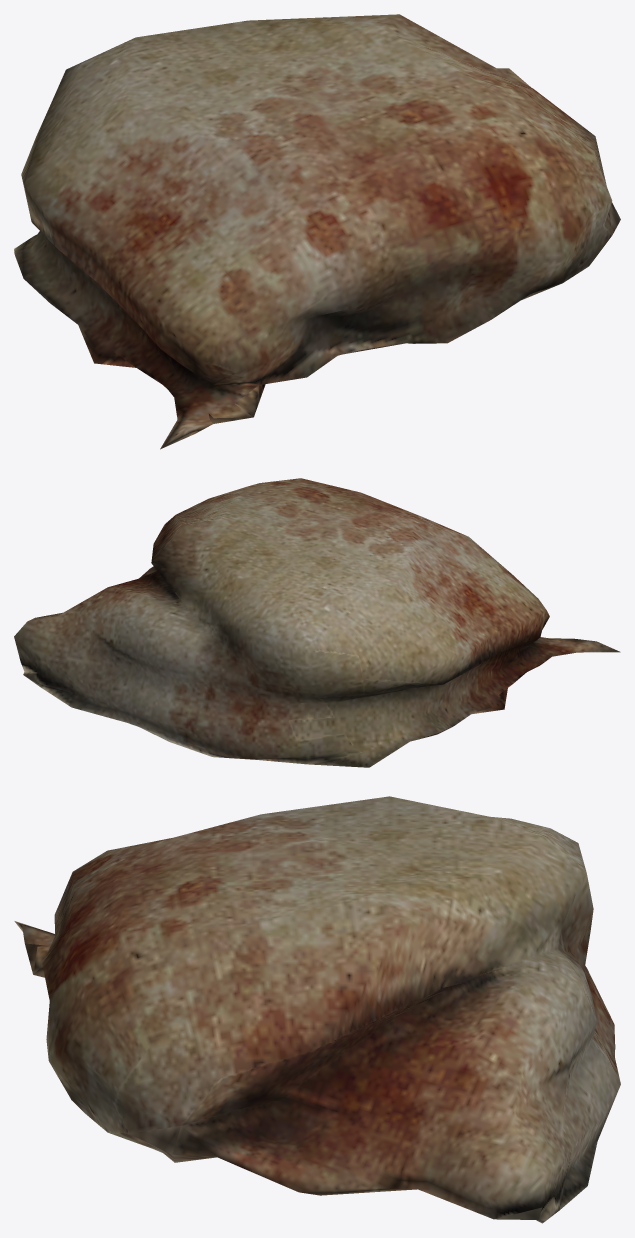
The model's file is bandage_used 03.DAE.
The picture shows the model from 3 angles, top to bottom: view 1: azimuth 30°, elevation 25°; view 2: azimuth 150°, elevation 25°; view 3: azimuth 270°, elevation 25°; orthographic projection. The views are drawn at different scales.
Parts seen in each view (by area): view 1: bandage_used 03; view 2: bandage_used 03; view 3: bandage_used 03.
Part boxes in pixels (box(x1,y1,x2,y2)): bandage_used 03: box(14, 14, 620, 449); bandage_used 03: box(14, 478, 620, 767); bandage_used 03: box(14, 796, 620, 1223).
Bounding box in the file's own units: 5.63 × 2 × 4.5.
